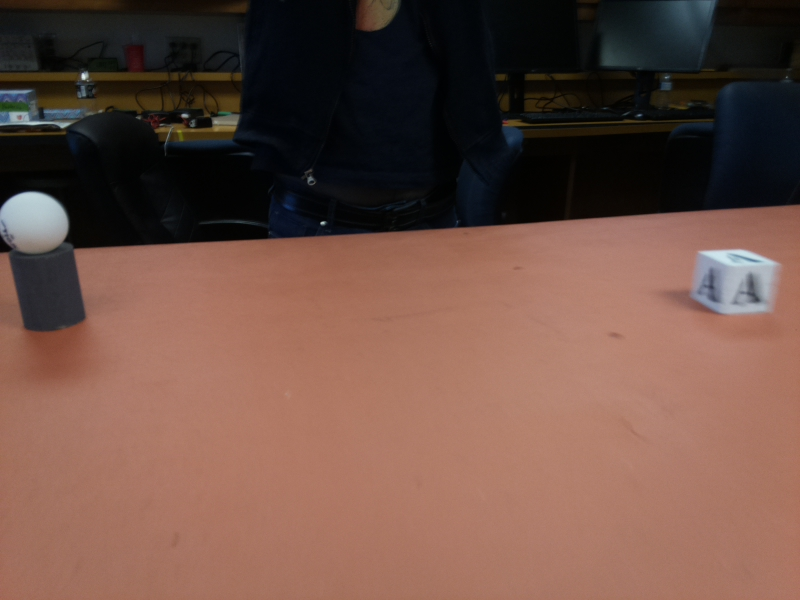blockA: (694, 248, 782, 313)
obstacle: (8, 187, 86, 324)
